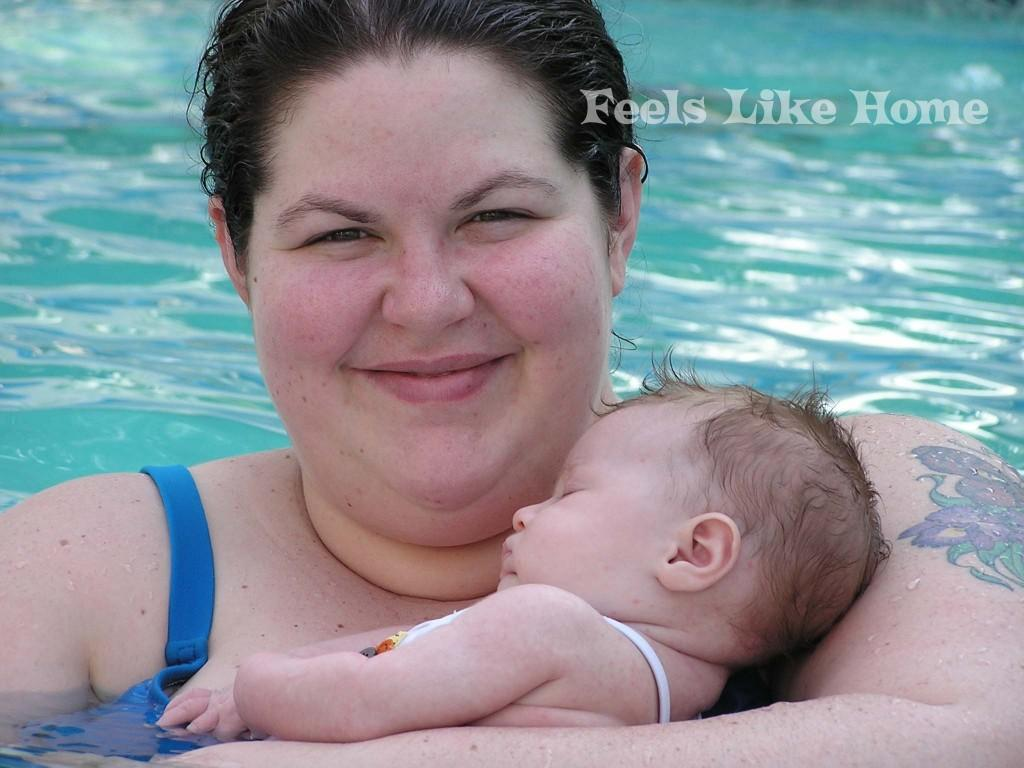face: (248, 82, 620, 496), (502, 446, 672, 582)
